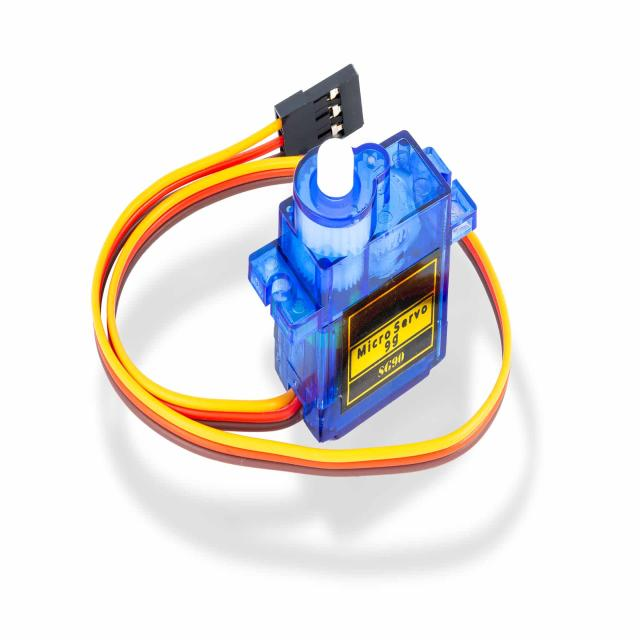servomotor: (228, 85, 477, 448)
